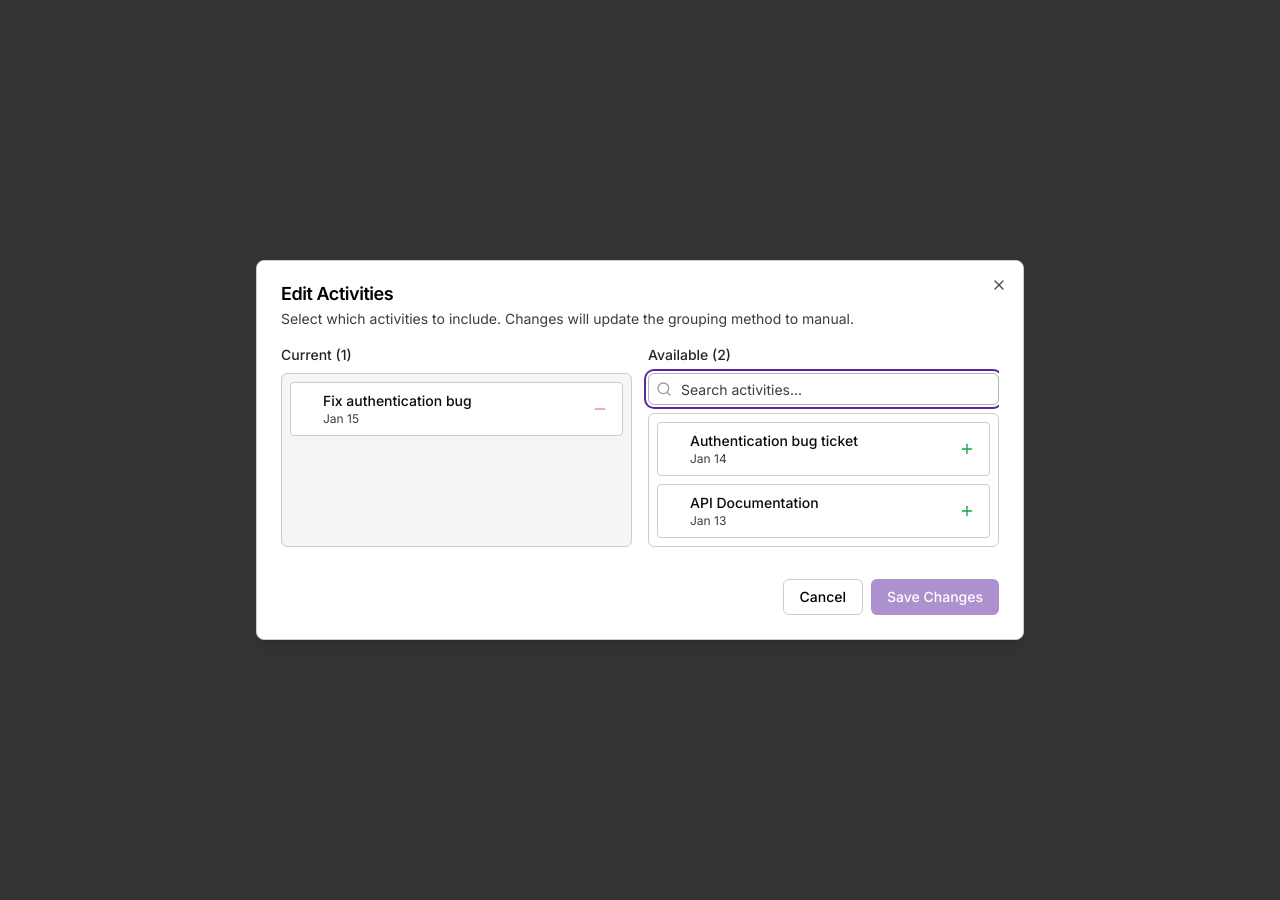
Test: EditActivitiesModal › filters available activities by search query
This screenshot has width=1280, height=900.
Type "API" into the field with placeholder "Search activities...". click: (824, 389)
box: x1=648 y1=373 x2=999 y2=405
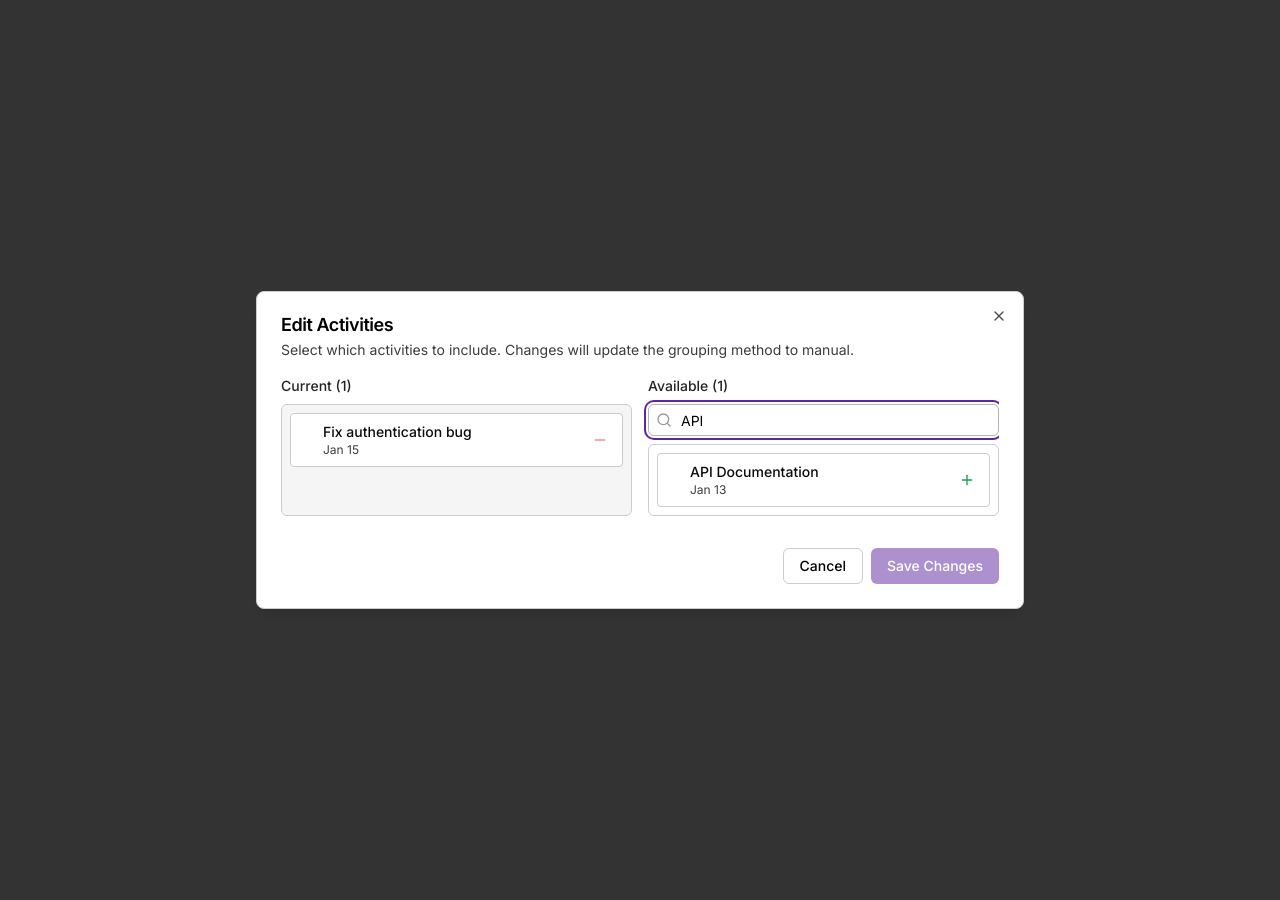
Expected: the text "API Documentation" is shown, x1=690 y1=463 x2=819 y2=480
Expected: the text "Authentication bug ticket" is gone
